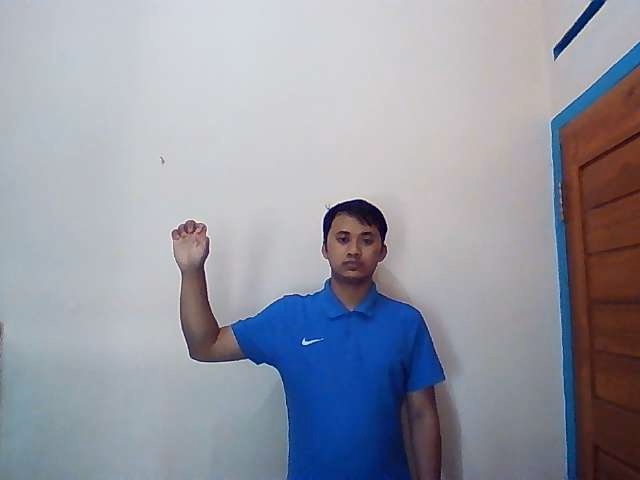E: (171, 220, 210, 268)
